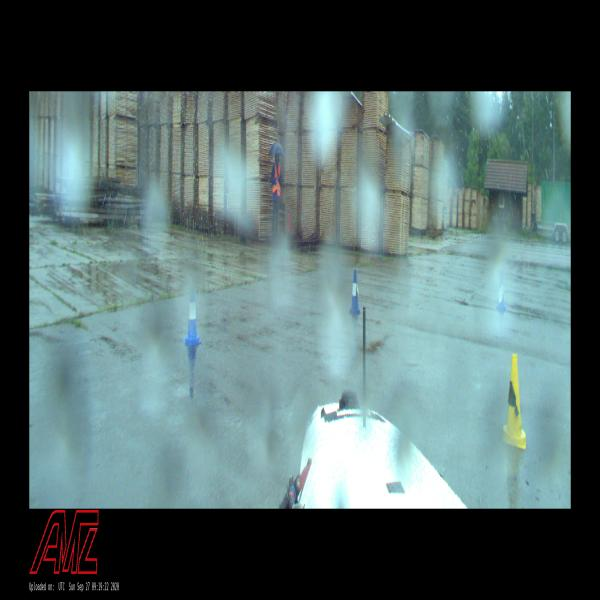blue_cone: (184, 286, 200, 346), (349, 270, 361, 313), (496, 278, 505, 311)
yellow_cone: (502, 357, 526, 449)
